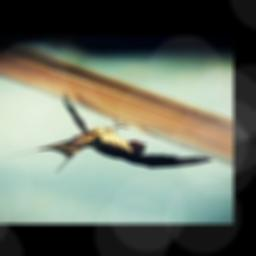Swallow: (6, 92, 217, 176)
